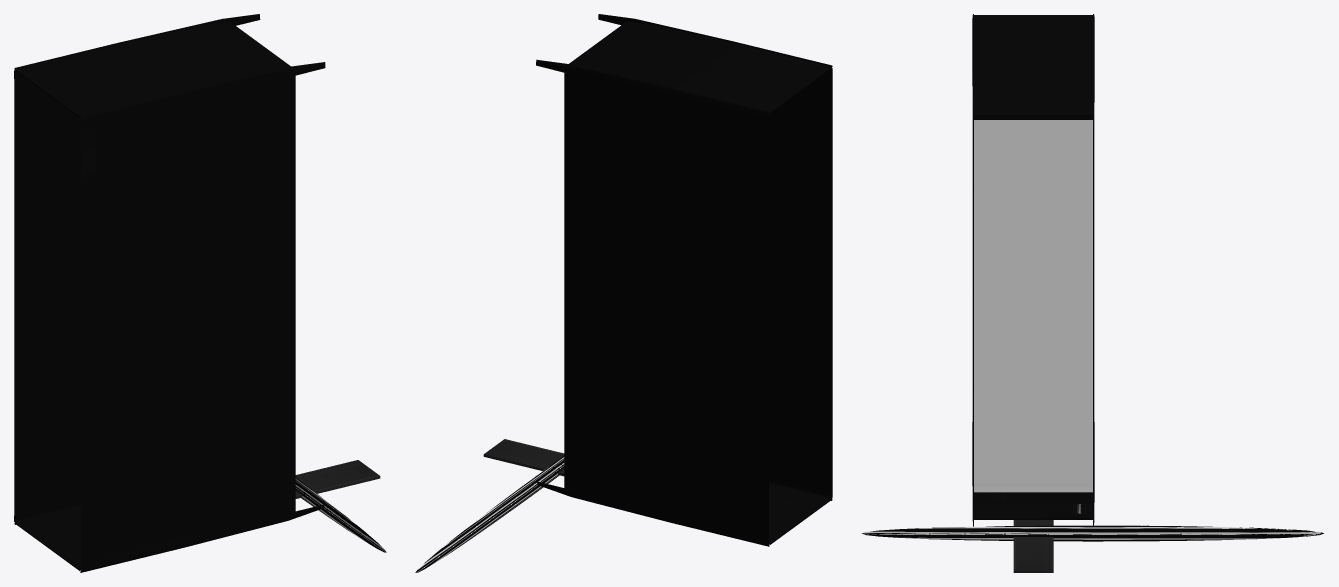
File: whiteboard_0.glb
The picture shows the model from 3 angles, left to right: view 1: azimuth 30°, elevation 25°; view 2: azimuth 150°, elevation 25°; view 3: azimuth 270°, elevation 25°; orthographic projection. The views are drawn at different scales.
Visible parts, largest first — view 1: whiteboard_0; view 2: whiteboard_0; view 3: whiteboard_0.
Part boxes in pixels (left/top/right/bottom): whiteboard_0: left=14, top=14, right=386, bottom=572; whiteboard_0: left=415, top=14, right=832, bottom=572; whiteboard_0: left=862, top=14, right=1323, bottom=572.
Bounding box in the file's own units: 2.42 × 3.3 × 3.31.
Materials: 1 (1 with a texture image).
